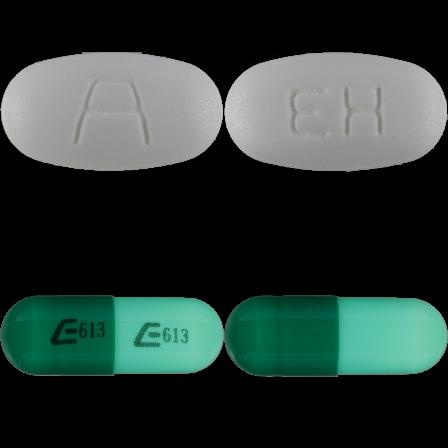50090-0339: (0, 0, 224, 224)
